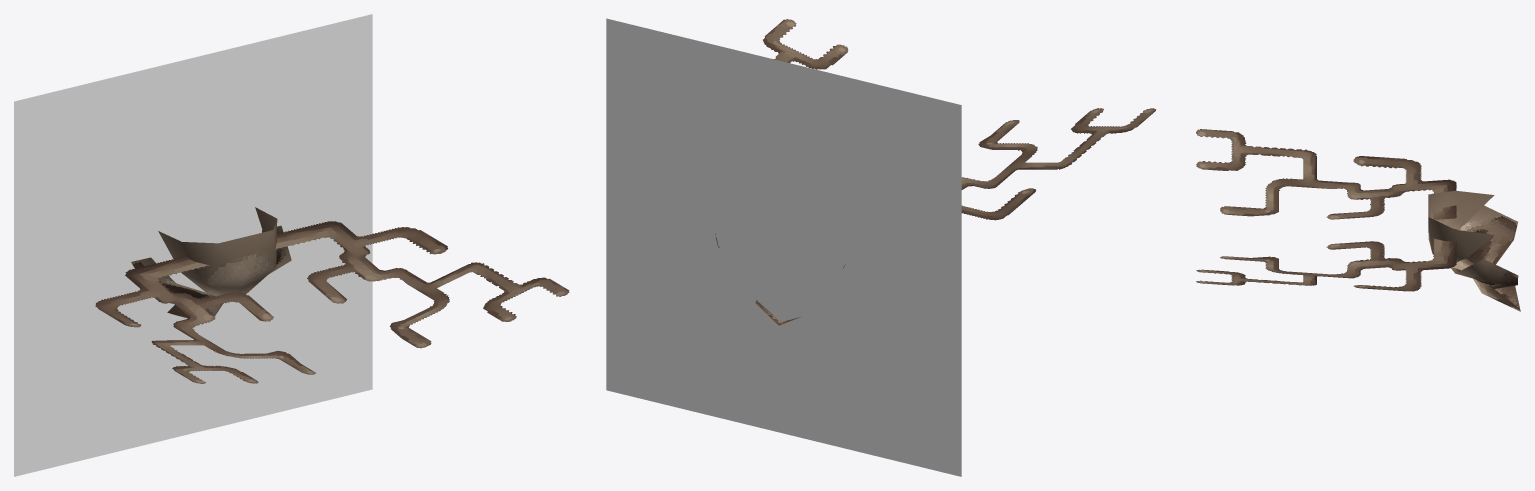
The model's file is model_critterskull.glb.
3 views of the same model, side by side, from view 1: azimuth 30°, elevation 25°; view 2: azimuth 150°, elevation 25°; view 3: azimuth 270°, elevation 25° (orthographic). The views are drawn at different scales.
Parts seen in each view (by area): view 1: plane.plane_1unit-Mesh[0], monster_parts.model_critterskull-MeshNodes["critterSkull_ant, monster_parts.model_critterskull-MeshNodes["critterSkull"]; view 2: plane.plane_1unit-Mesh[0], monster_parts.model_critterskull-MeshNodes["critterSkull_ant; view 3: monster_parts.model_critterskull-MeshNodes["critterSkull_ant, monster_parts.model_critterskull-MeshNodes["critterSkull"].
Boxes of the visible parts, bbox=[...] form: plane.plane_1unit-Mesh[0]: bbox=[14, 14, 372, 476]; monster_parts.model_critterskull-MeshNodes["critterSkull_ant: bbox=[95, 221, 569, 383]; monster_parts.model_critterskull-MeshNodes["critterSkull"]: bbox=[131, 207, 291, 318]; plane.plane_1unit-Mesh[0]: bbox=[606, 18, 961, 476]; monster_parts.model_critterskull-MeshNodes["critterSkull_ant: bbox=[763, 19, 1156, 220]; monster_parts.model_critterskull-MeshNodes["critterSkull_ant: bbox=[1196, 129, 1456, 291]; monster_parts.model_critterskull-MeshNodes["critterSkull"]: bbox=[1428, 190, 1520, 311].
Bounding box in the file's own units: 1.5 × 1.4 × 1.32.
Materials: 3 (2 with a texture image).
